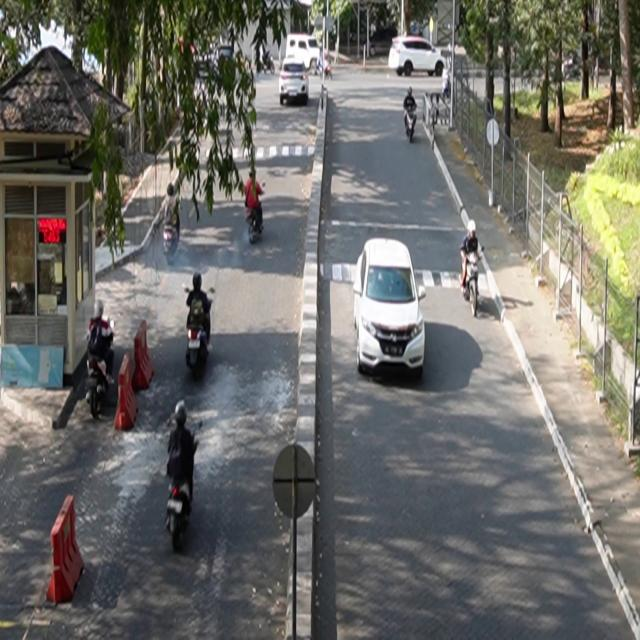car: (354, 238, 427, 378), (389, 37, 447, 78), (280, 57, 310, 106)
